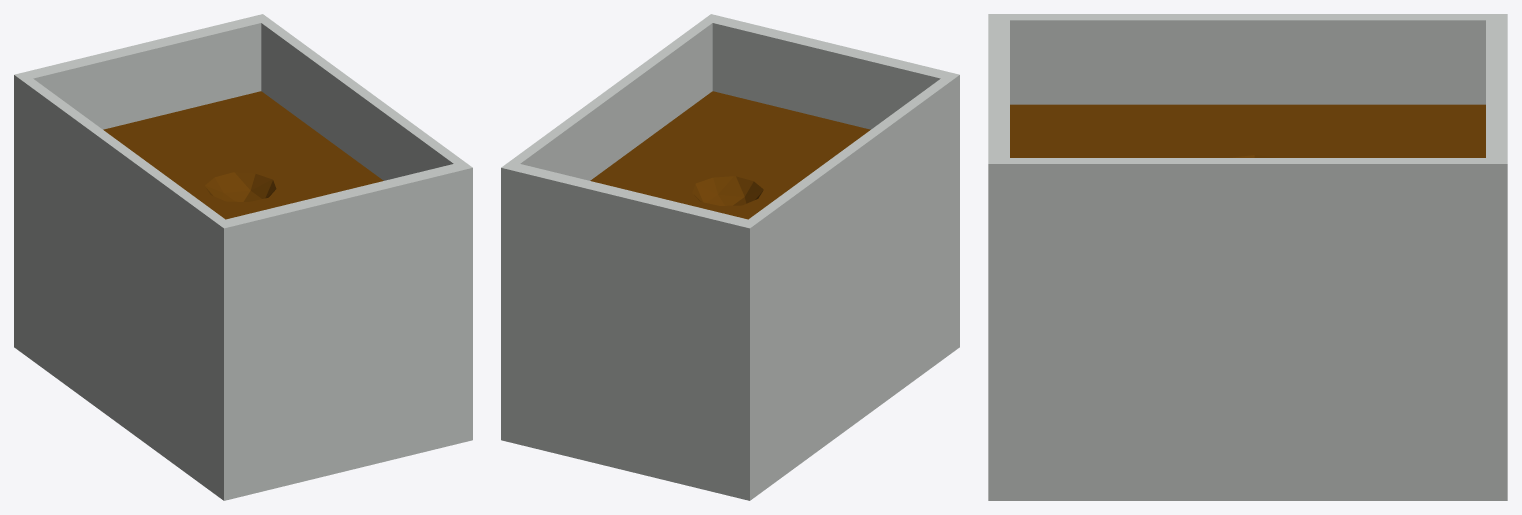
Rendered from soil_bed.dae.
3 renders of one model, left to right at view 1: azimuth 30°, elevation 25°; view 2: azimuth 150°, elevation 25°; view 3: azimuth 270°, elevation 25°, orthographic. The views are drawn at different scales.
Visible parts, largest first — view 1: garden_basket, soil; view 2: garden_basket, soil; view 3: garden_basket, soil.
Part boxes in pixels (left/top/right/bottom): garden_basket: left=14, top=14, right=472, bottom=500; soil: left=103, top=91, right=383, bottom=219; garden_basket: left=501, top=14, right=959, bottom=500; soil: left=590, top=91, right=870, bottom=219; garden_basket: left=988, top=14, right=1507, bottom=500; soil: left=1010, top=104, right=1485, bottom=157.
Size of the model in its own units: 0.65 by 0.95 by 0.68.
